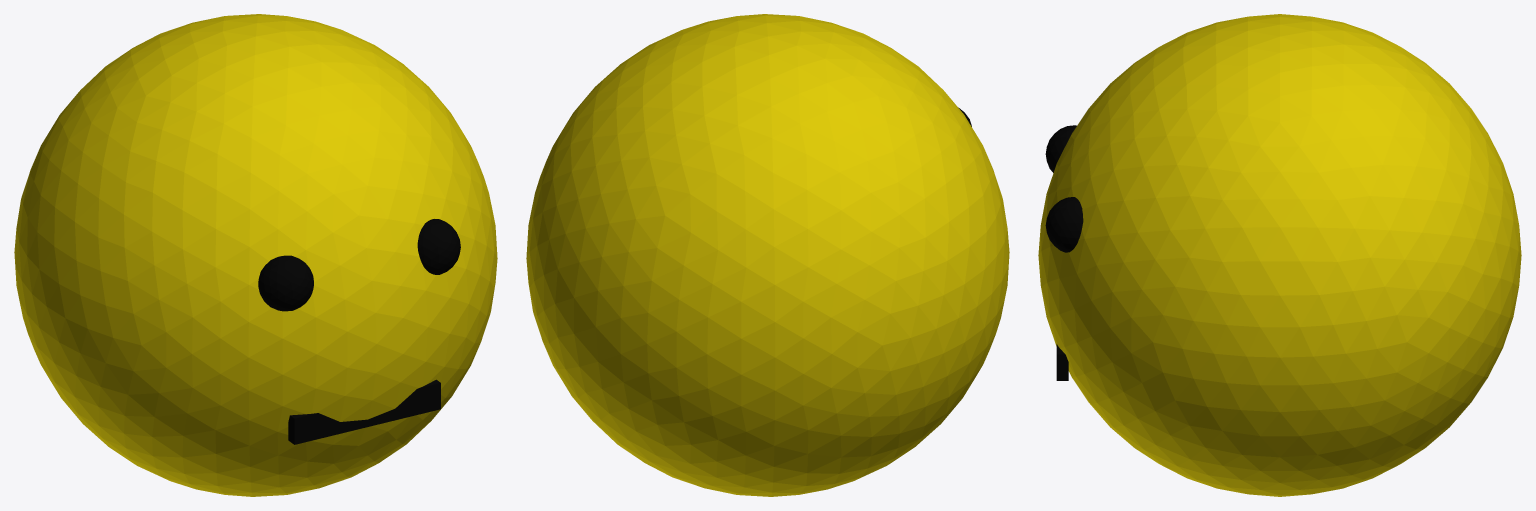
Rendered from emoji_happy.glb.
3 renders of one model, left to right at view 1: azimuth 30°, elevation 25°; view 2: azimuth 150°, elevation 25°; view 3: azimuth 270°, elevation 25°, orthographic.
Visible parts, largest first — view 1: world; view 2: world; view 3: world.
Boxes of the visible parts, box(x1,y1,x2,y2) form: world: box(14, 14, 497, 496); world: box(526, 14, 1009, 496); world: box(1038, 14, 1521, 496).
Size of the model in its own units: 2 by 2 by 2.
